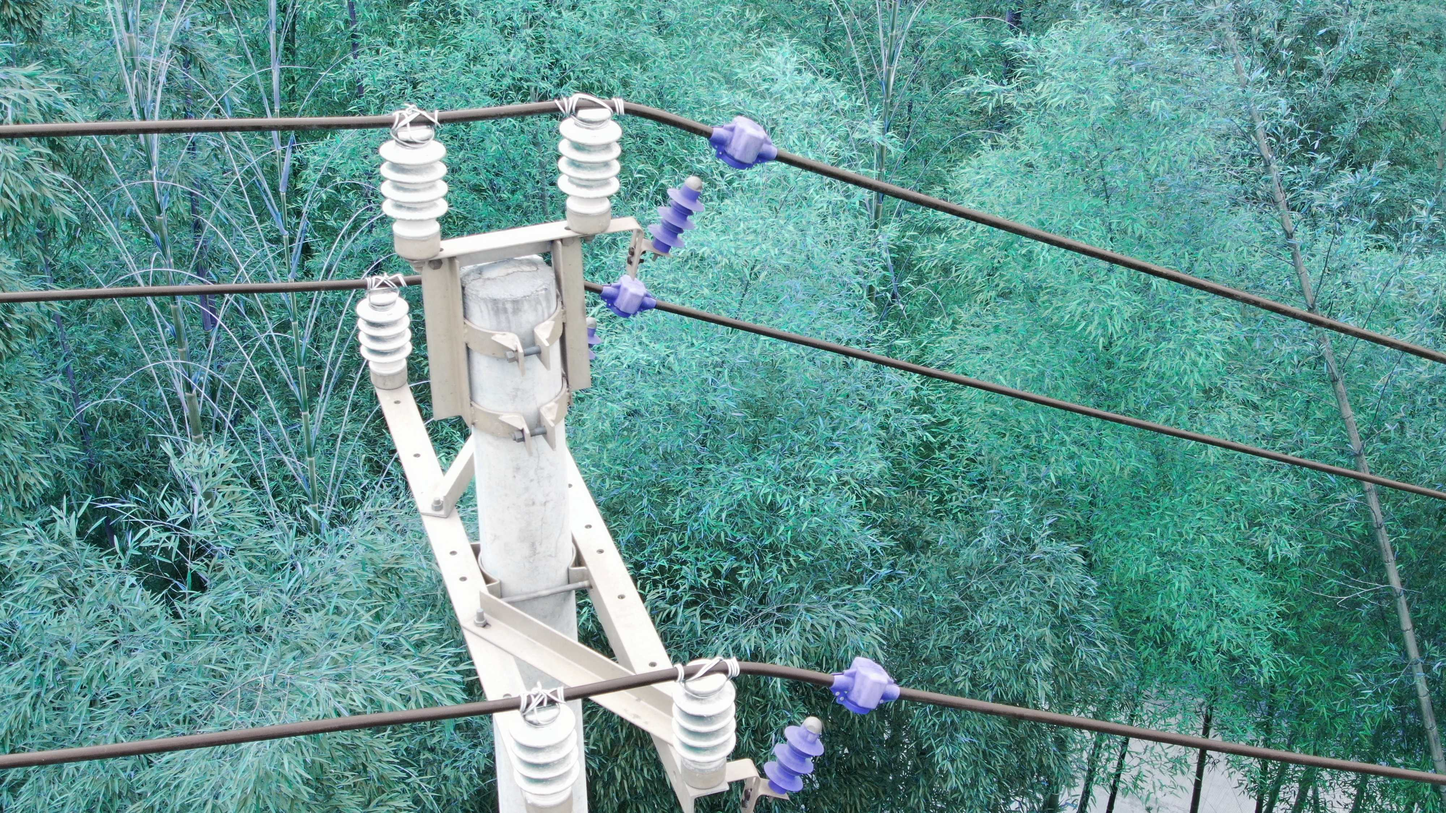severe_soiling_no_discharge_whole: (373, 113, 452, 261), (551, 102, 623, 235), (669, 658, 740, 790), (507, 689, 580, 809), (354, 284, 412, 392)
